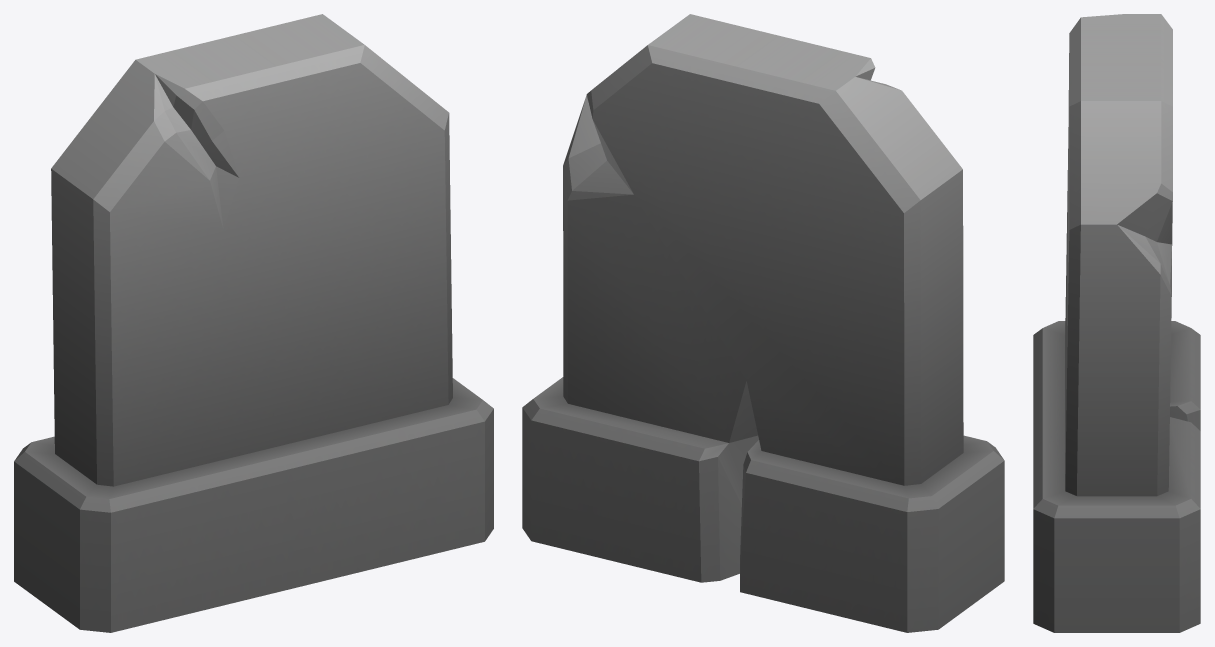
Rendered from TombstoneDamaged3.fbx.
The picture shows the model from 3 angles, left to right: view 1: azimuth 30°, elevation 25°; view 2: azimuth 150°, elevation 25°; view 3: azimuth 270°, elevation 25°; orthographic projection. The views are drawn at different scales.
Visible parts, largest first — view 1: TombstoneDamaged3; view 2: TombstoneDamaged3; view 3: TombstoneDamaged3.
Part boxes in pixels (x1=…): TombstoneDamaged3: x1=14, y1=14, x2=493, y2=632; TombstoneDamaged3: x1=522, y1=14, x2=1004, y2=632; TombstoneDamaged3: x1=1033, y1=14, x2=1200, y2=632.
Size of the model in its own units: 1.16 by 1.35 by 0.4277.
1 material, 1 textured.
